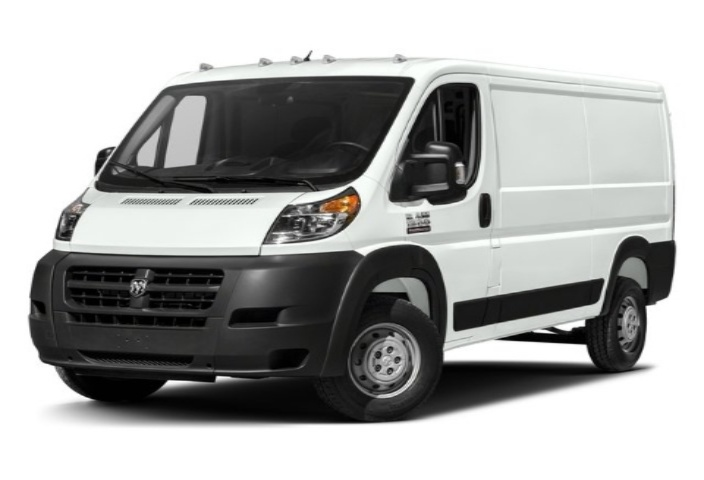van: (41, 35, 684, 408)
